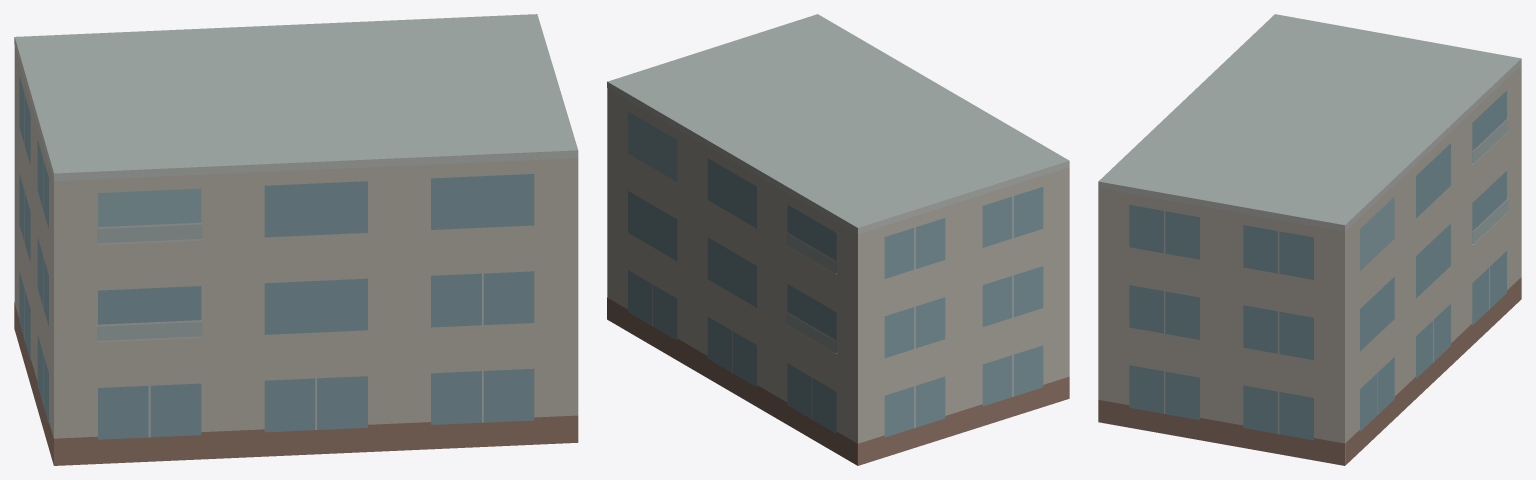
Rendered from survey-upis-32894492.glb.
3 views of the same model, side by side, from view 1: azimuth 30°, elevation 25°; view 2: azimuth 150°, elevation 25°; view 3: azimuth 270°, elevation 25° (orthographic). The views are drawn at different scales.
Parts seen in each view (by area): view 1: survey-upis-32894492.tmp; view 2: survey-upis-32894492.tmp; view 3: survey-upis-32894492.tmp.
Part boxes in pixels (bbox=[...]): survey-upis-32894492.tmp: bbox=[14, 14, 578, 465]; survey-upis-32894492.tmp: bbox=[607, 14, 1069, 465]; survey-upis-32894492.tmp: bbox=[1098, 14, 1521, 465].
Size of the model in its own units: 17.23 by 9.15 by 14.6.
